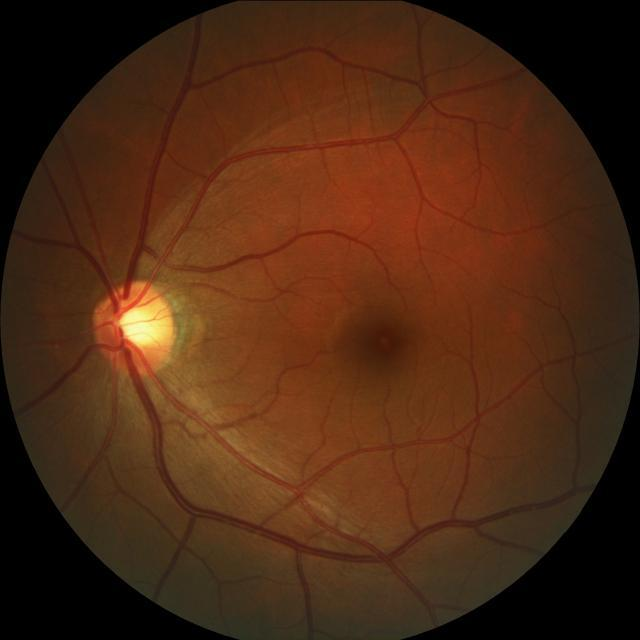OC: (114, 298, 158, 346)
OD: (91, 280, 176, 374)
